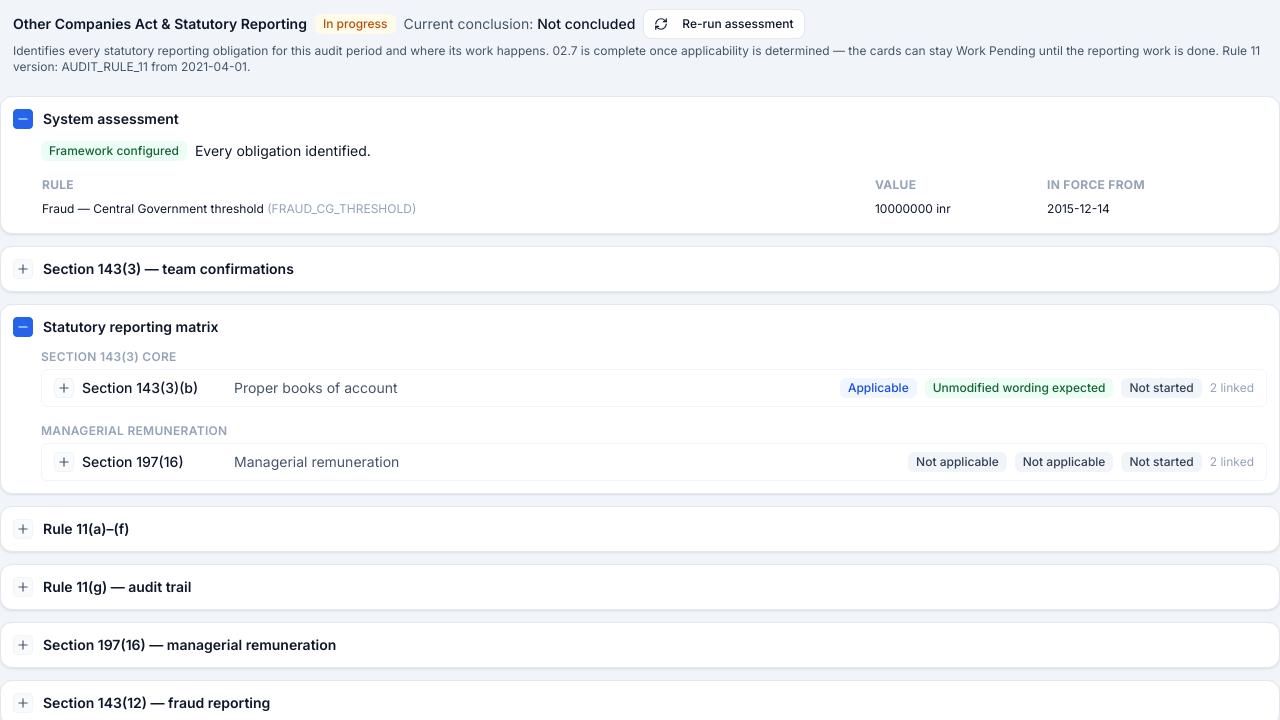
Test: 02.7 Other reporting workspace › Section 197(16) is not applicable to a private company
Step 1. Click the button "Section 197(16) — managerial remuneration" → (190, 644), box x1=13 y1=635 x2=1267 y2=655
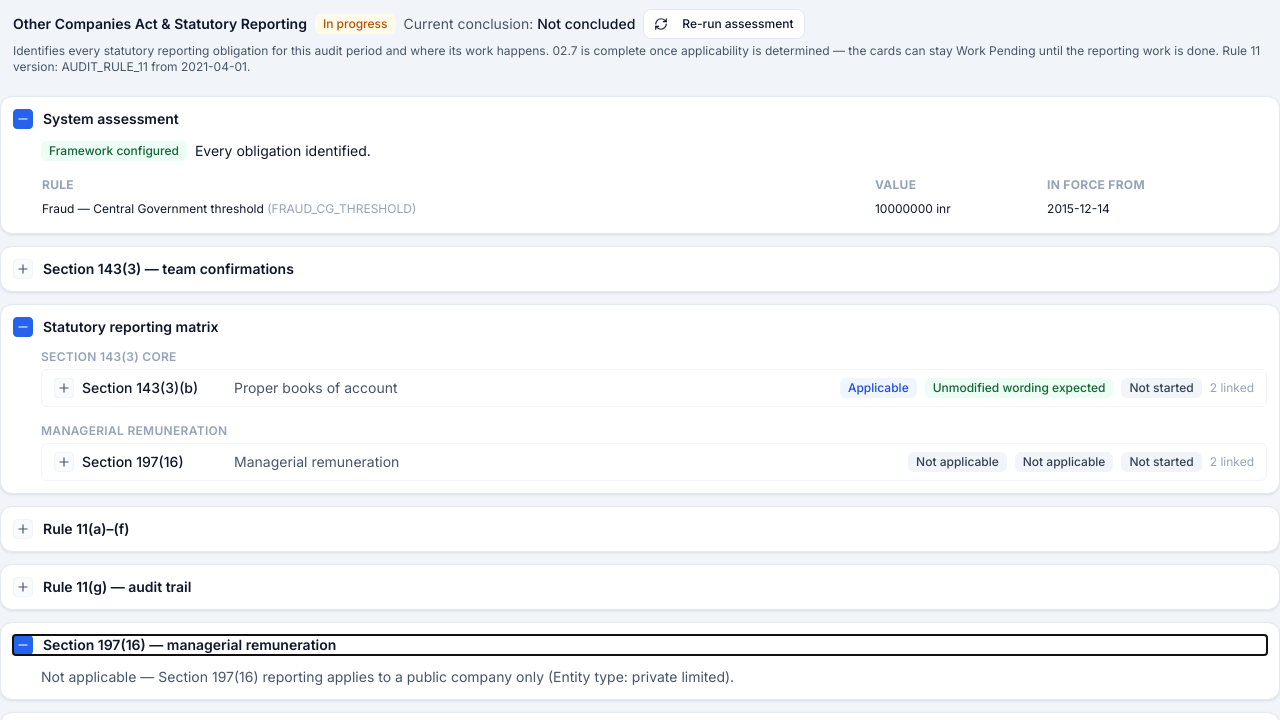
Expected: the text "applies to a public company only (Entity type: private limited)" is shown, x1=41 y1=668 x2=734 y2=685
